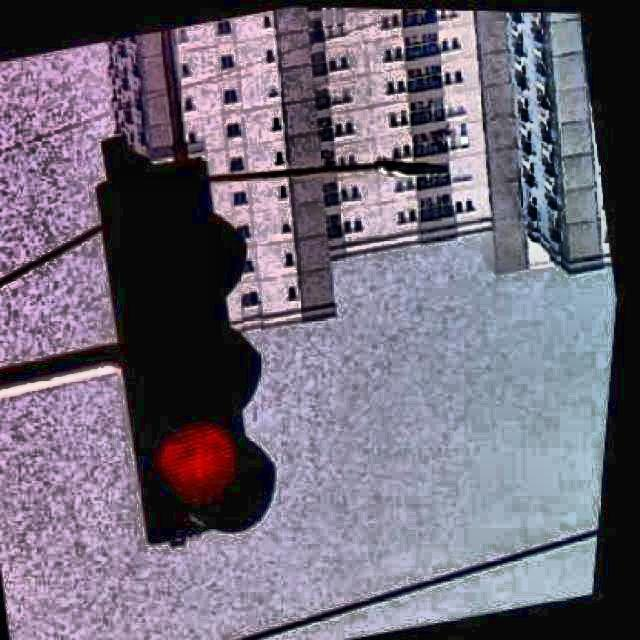red: (108, 159, 282, 531)
